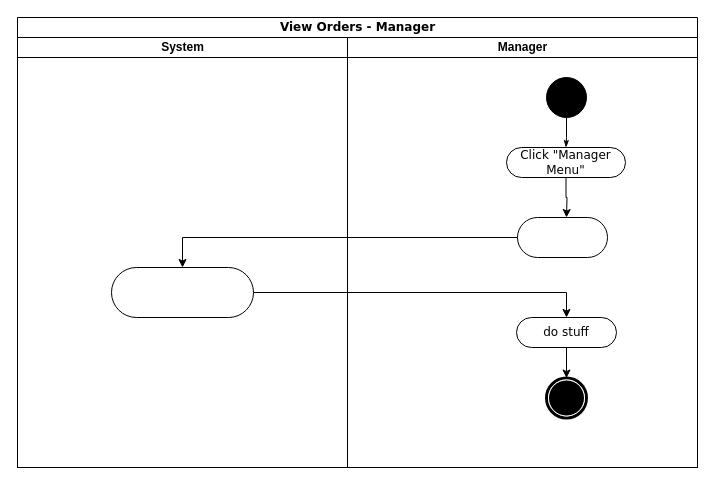
Image size: 715x485. Some labels were removed from this diagram. The shapes that lost their labels are listed below. From the top down, each one's centre as x and y in pixels, then its label:
[562,237]: Click "Show Orders"
[182,292]: take the orders table from the DB
